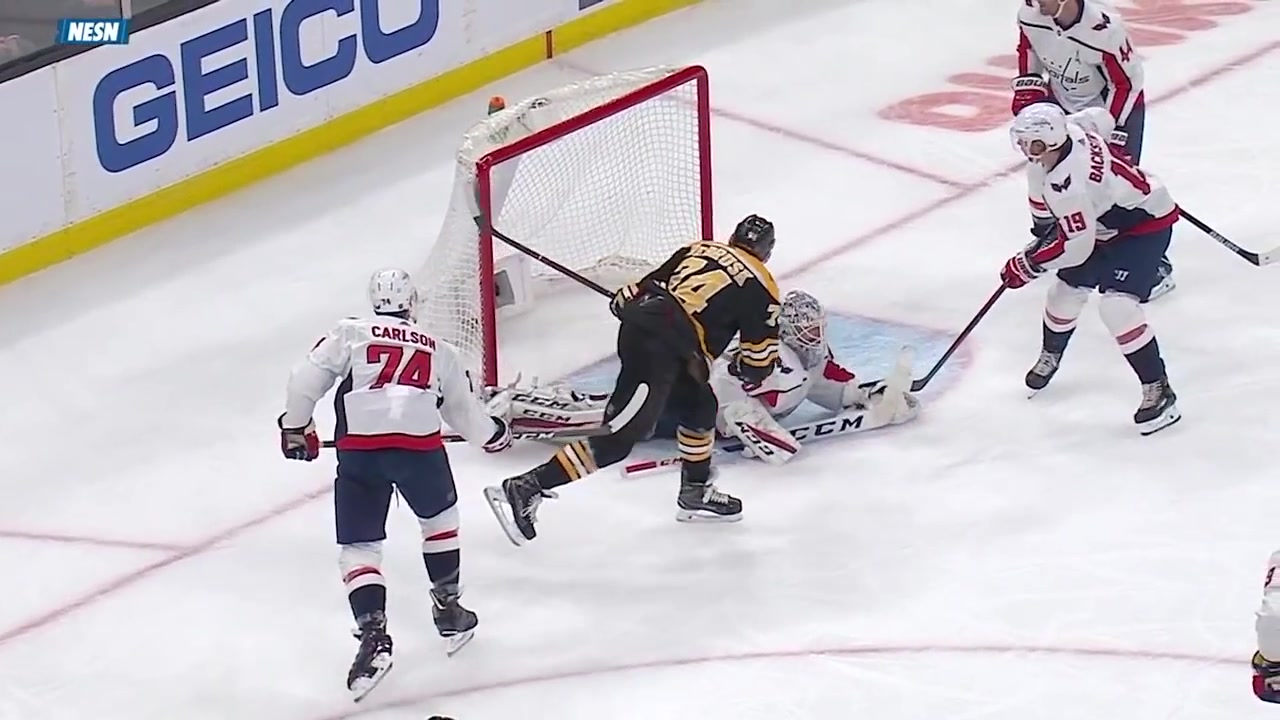geico: (84, 10, 498, 178)
